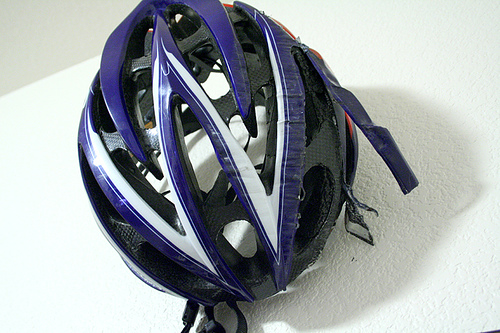helmet: (69, 10, 362, 283)
